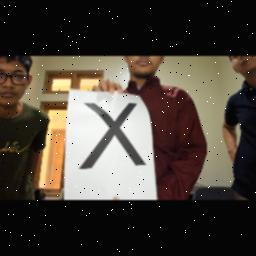x: (75, 99, 149, 177)
